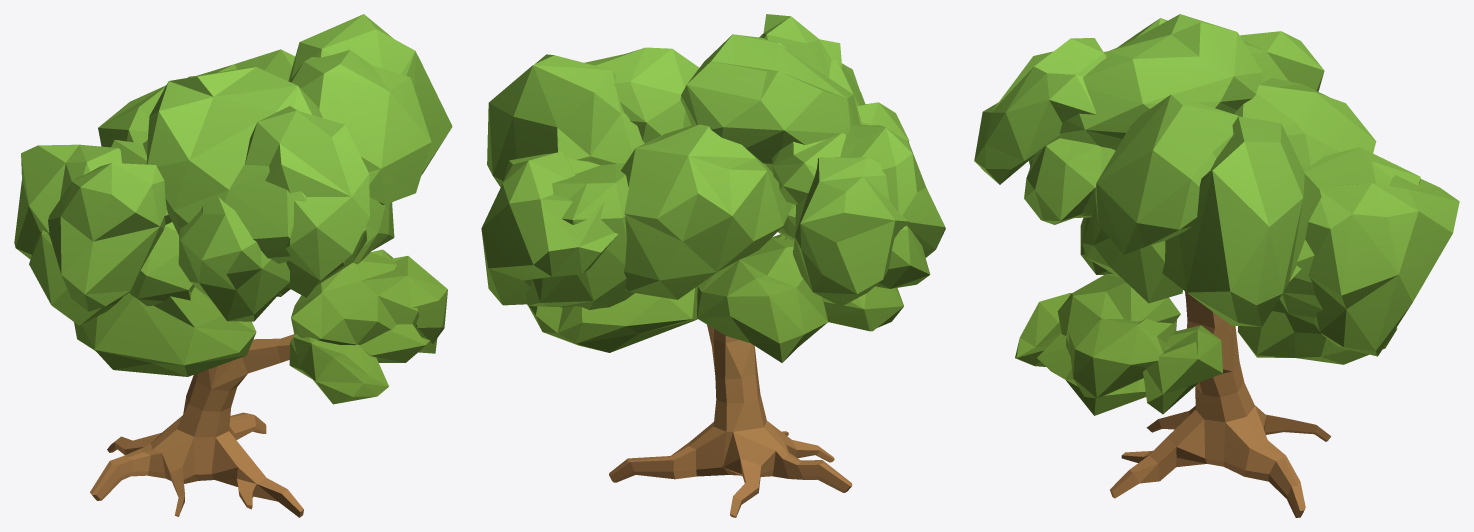
File: LP_Tree_03.fbx
3 views of the same model, side by side, from view 1: azimuth 30°, elevation 25°; view 2: azimuth 150°, elevation 25°; view 3: azimuth 270°, elevation 25° (orthographic). The views are drawn at different scales.
Visible parts, largest first — view 1: LP_Tree_03_LOD0; view 2: LP_Tree_03_LOD0; view 3: LP_Tree_03_LOD0.
Boxes of the visible parts, x1,y1,x2,y2 form: LP_Tree_03_LOD0: (14, 14, 452, 517); LP_Tree_03_LOD0: (481, 14, 945, 517); LP_Tree_03_LOD0: (974, 14, 1459, 517).
Size of what is drawn, in the model's own units: 10.55 by 10.02 by 9.87.
